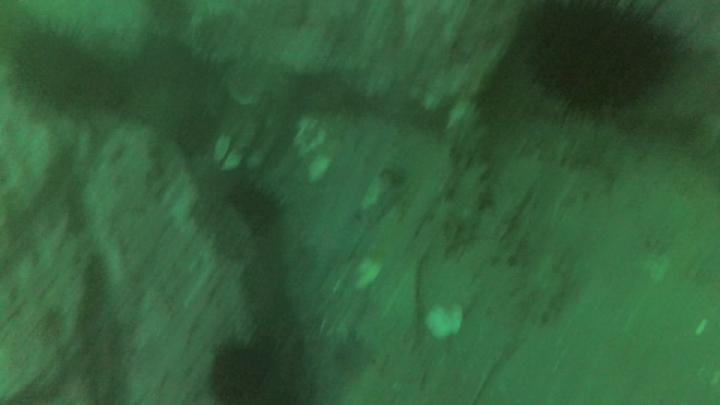echinus: (523, 2, 694, 134), (16, 18, 111, 111), (200, 336, 279, 405), (220, 178, 293, 238)
holothurian: (441, 104, 497, 252)
